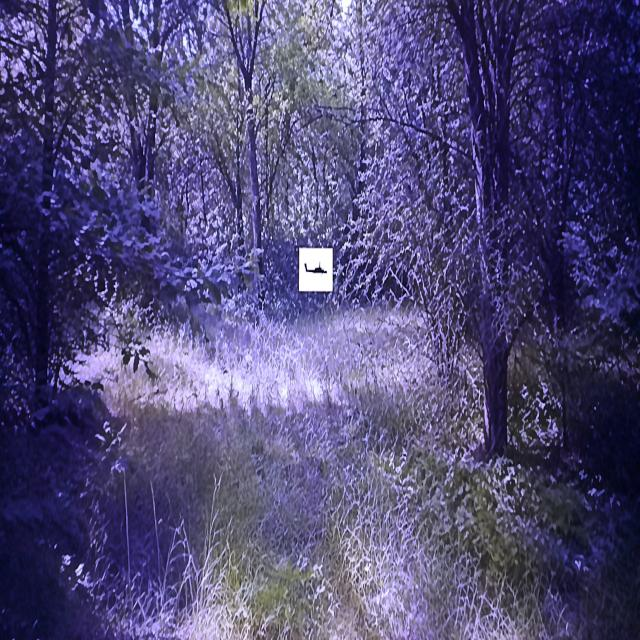Apache friendly: (304, 261, 326, 275)
